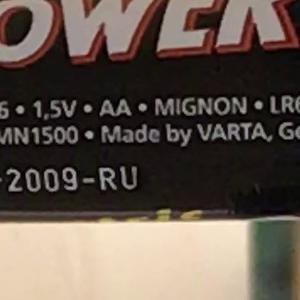1,5V: (25, 91, 86, 127)
